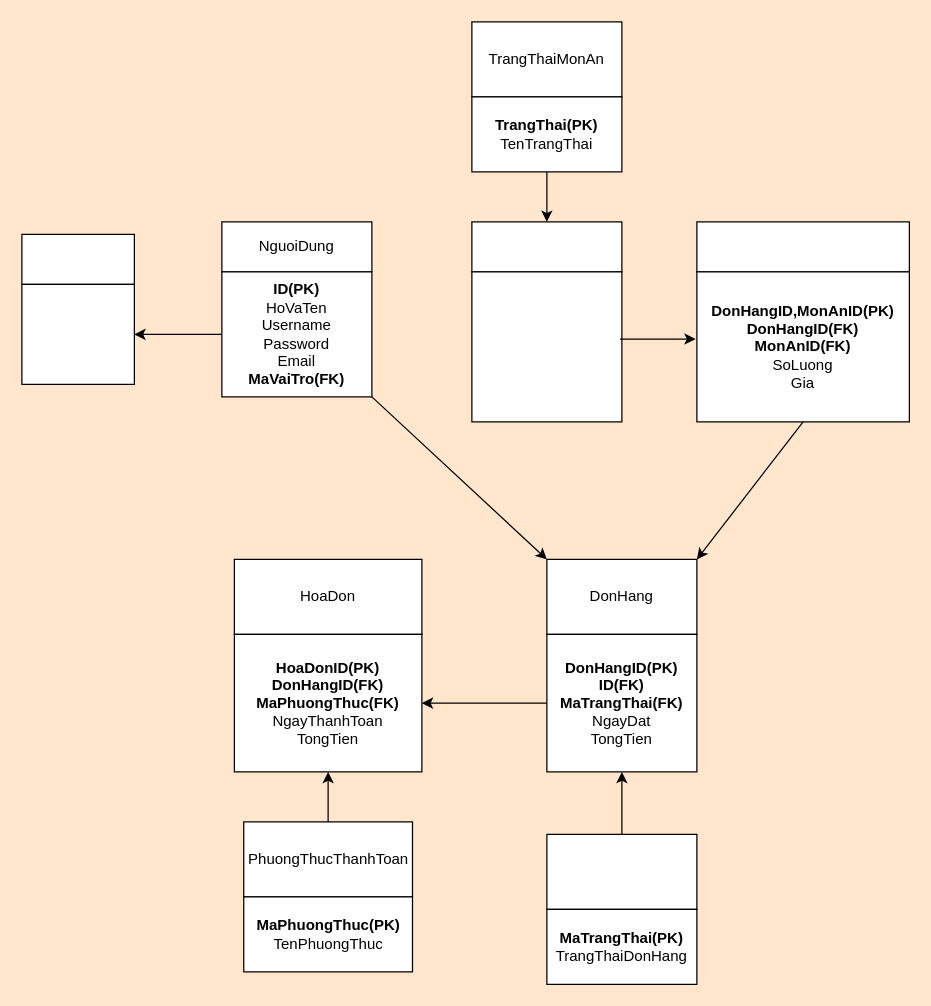
The diagram is 931 pixels wide and 1006 high, and some of its shapes have lost their labels. The box of each missing label's shape, as (x1, y1, x2, y2) in pixels:
ChiTietDonHang: (696, 221, 909, 272)
MaVaiTro(PK) TenVaiTro: (21, 283, 134, 384)
MonAn: (471, 221, 622, 272)
MonAnID(PK) TenMon Gia MoTa PhanLoai Anh TrangThai(FK): (471, 271, 622, 422)
TrangThaiDonHang: (546, 833, 697, 909)
VaiTro: (21, 233, 134, 284)
